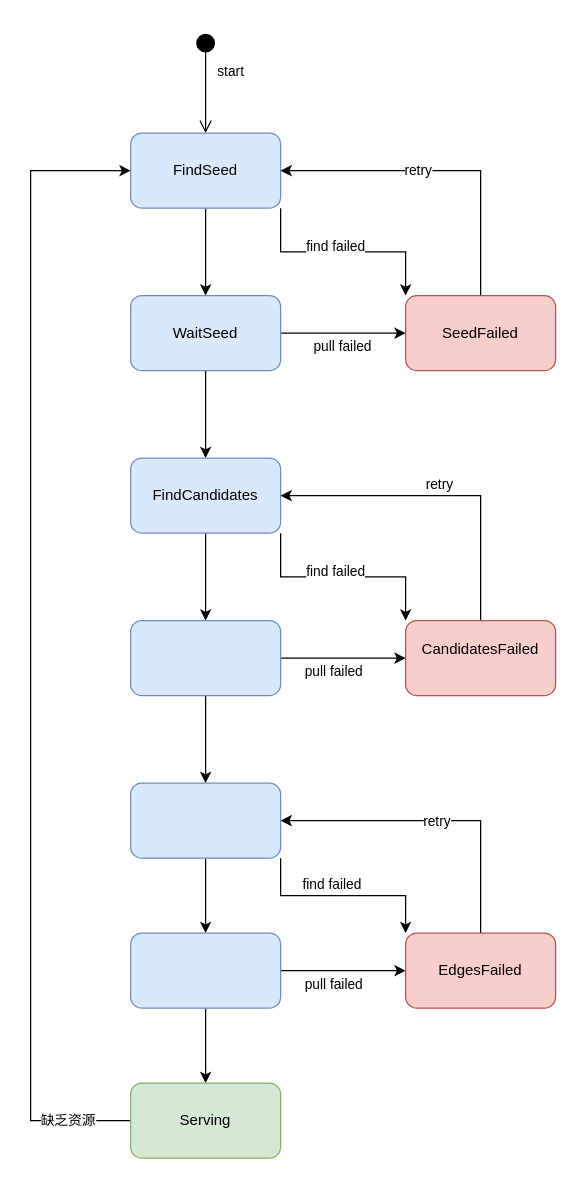
The diagram is 578 pixels wide and 1180 high, and some of its shapes have lost their labels. The shapes that lost their labels are listed below. From the top down, each one's box as (x1, y1, x2, y2) in pixels, then its label:
(129, 619, 281, 696): DistributeToCandidates
(129, 782, 281, 858): FindEdges
(129, 932, 281, 1008): DistributeToEdges
